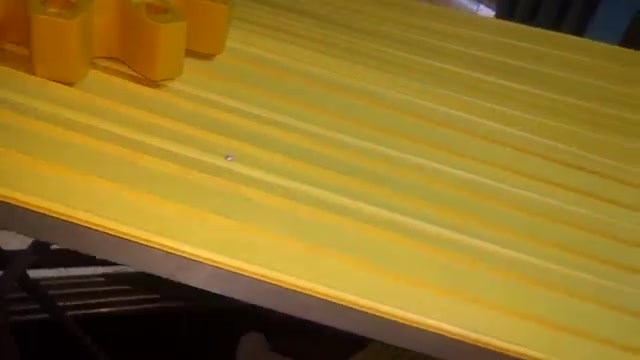gear: (3, 1, 229, 112)
